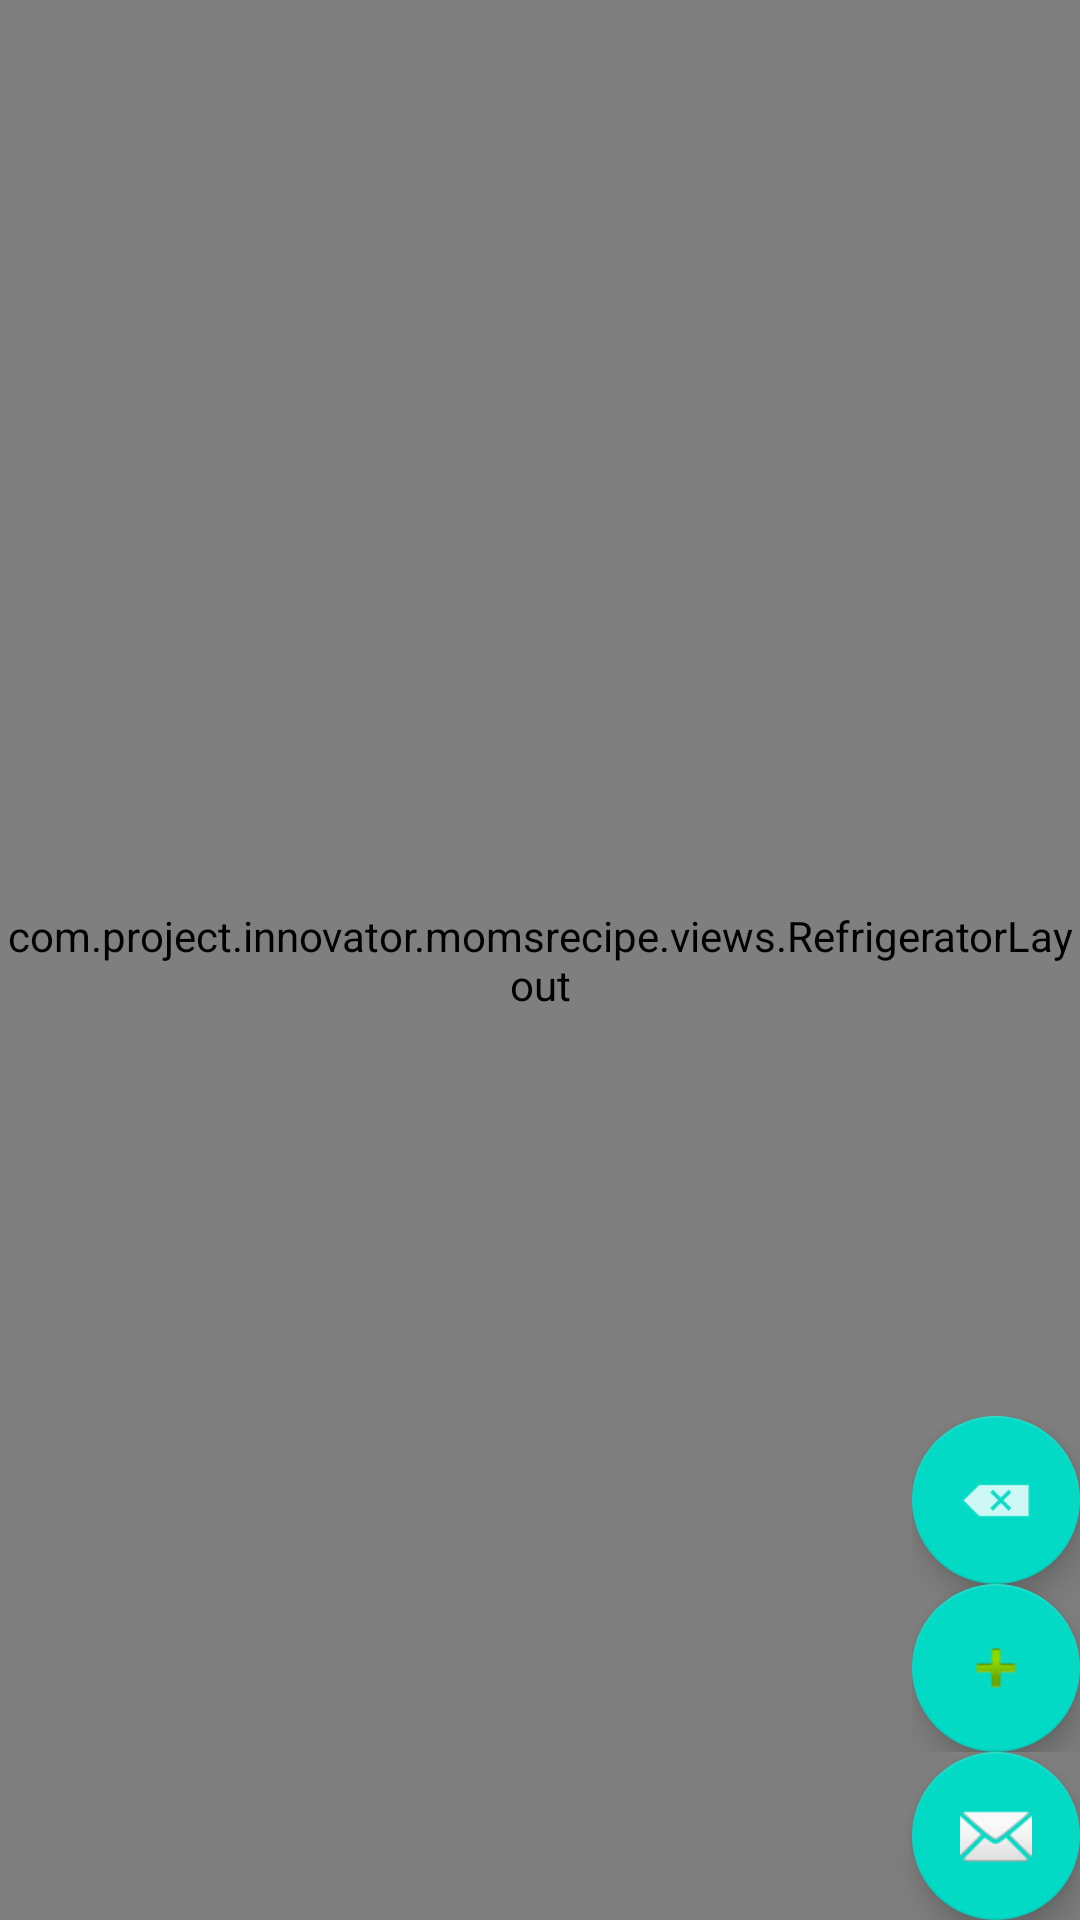

Icons on this 1080px x 1920px Android screen, each with its box as (x1, y1, x2, y2):
add: (912, 1584, 1080, 1752)
delete: (912, 1416, 1080, 1584)
email: (912, 1752, 1080, 1920)
